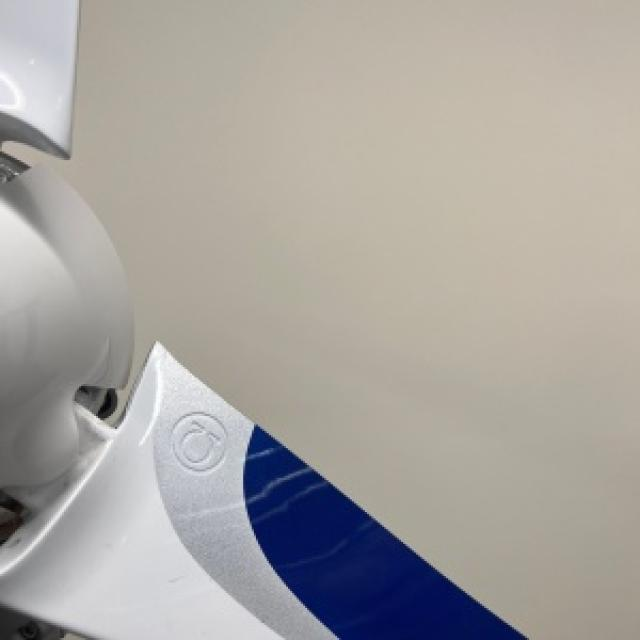healthy: (0, 151, 523, 638), (0, 0, 75, 151)
